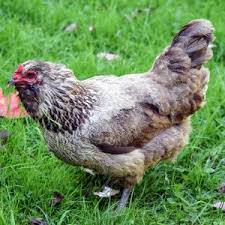chicken: (7, 13, 219, 213)
